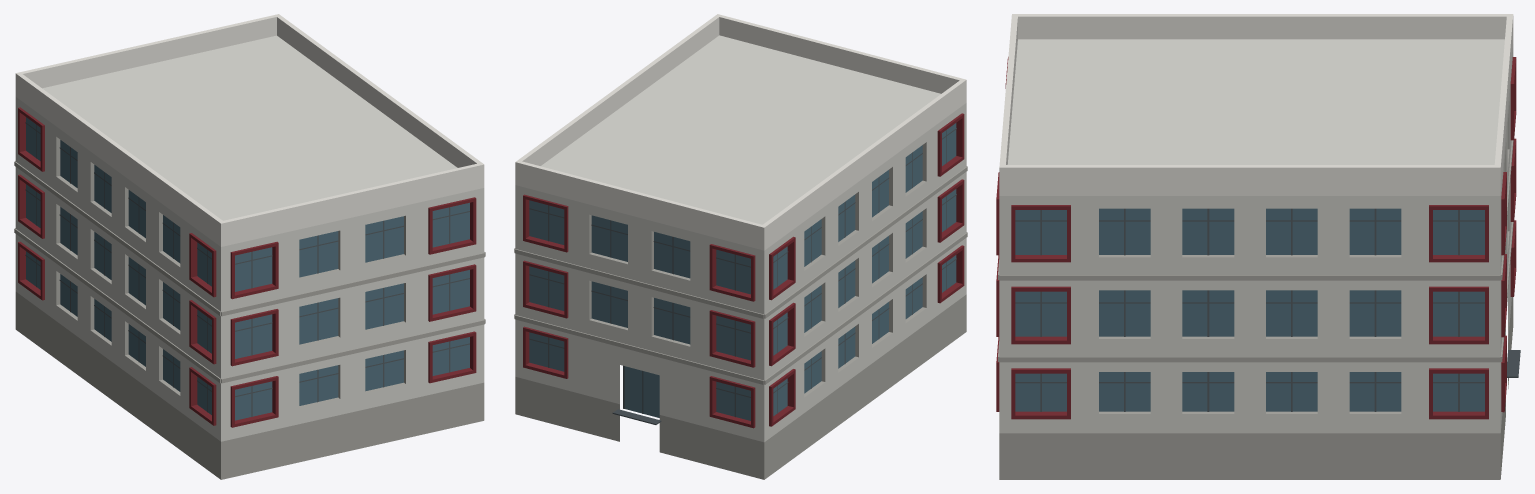
The picture shows the model from 3 angles, left to right: view 1: azimuth 30°, elevation 25°; view 2: azimuth 150°, elevation 25°; view 3: azimuth 270°, elevation 25°; orthographic projection. The views are drawn at different scales.
Visible parts, largest first — view 1: annex__wall-plaster-tile, annex__base-stone, annex__glass, annex__parapet-concrete, annex__trim-maroon, annex__frame; view 2: annex__wall-plaster-tile, annex__base-stone, annex__glass, annex__parapet-concrete, annex__trim-maroon, annex__frame, annex__door-frame; view 3: annex__wall-plaster-tile, annex__glass, annex__base-stone, annex__parapet-concrete, annex__trim-maroon, annex__frame.
Part boxes in pixels (x1,y1,x2,y2): annex__wall-plaster-tile: (15, 35, 484, 441); annex__base-stone: (14, 137, 485, 479); annex__glass: (26, 117, 469, 420); annex__parapet-concrete: (15, 14, 484, 246); annex__trim-maroon: (18, 107, 476, 427); annex__frame: (25, 122, 469, 416); annex__wall-plaster-tile: (515, 35, 966, 442); annex__base-stone: (514, 142, 967, 479); annex__glass: (529, 123, 956, 420); annex__parapet-concrete: (515, 14, 966, 250); annex__trim-maroon: (523, 113, 964, 428); annex__frame: (529, 128, 956, 417); annex__door-frame: (612, 365, 661, 424); annex__wall-plaster-tile: (999, 39, 1513, 433); annex__glass: (1015, 208, 1484, 411); annex__base-stone: (998, 101, 1513, 479); annex__parapet-concrete: (999, 14, 1513, 195); annex__trim-maroon: (996, 57, 1516, 419); annex__frame: (1015, 208, 1484, 411).
Size of the model in its own units: 14.78 by 13.75 by 20.91.
